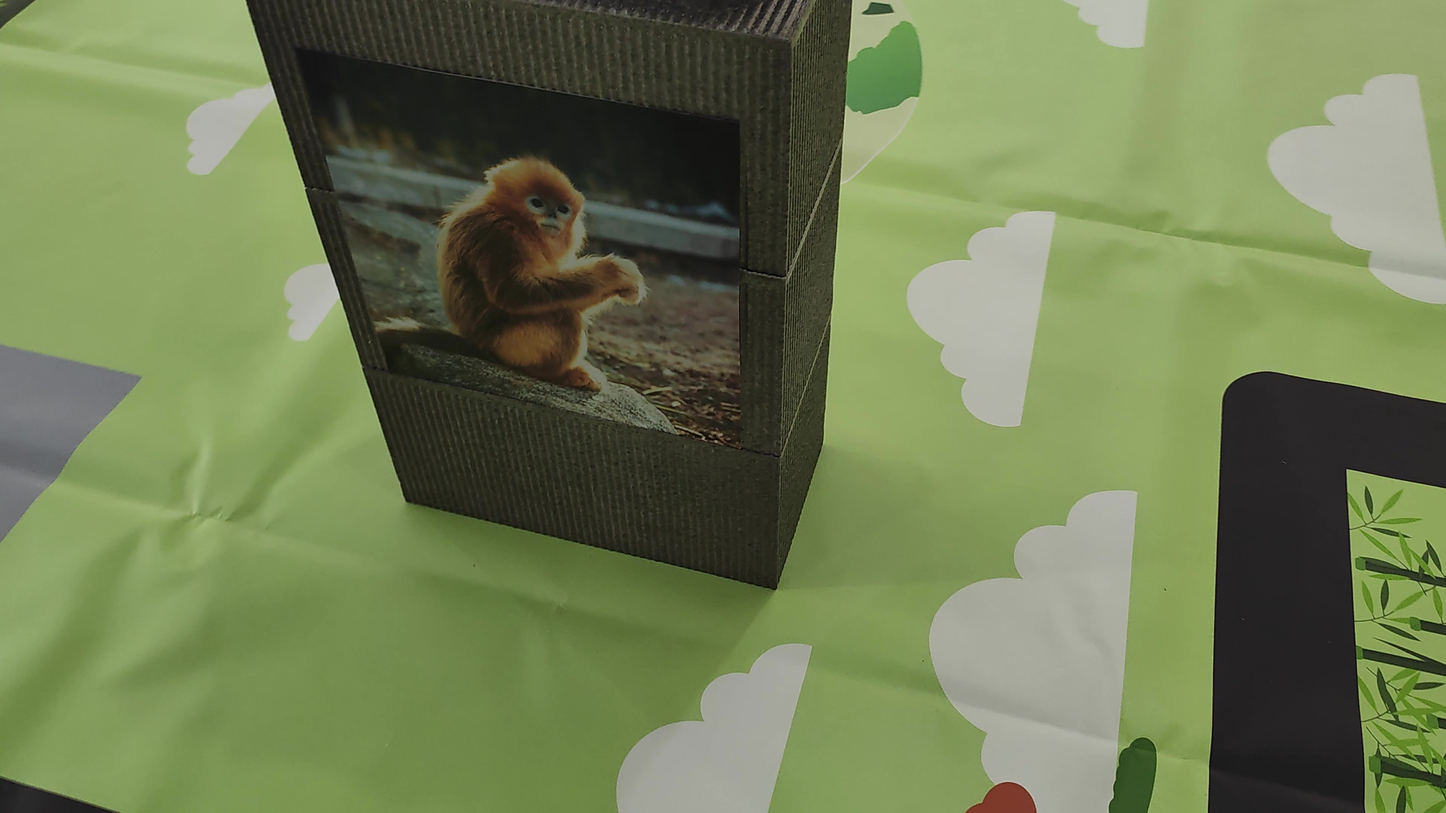monkey: (416, 134, 679, 385)
